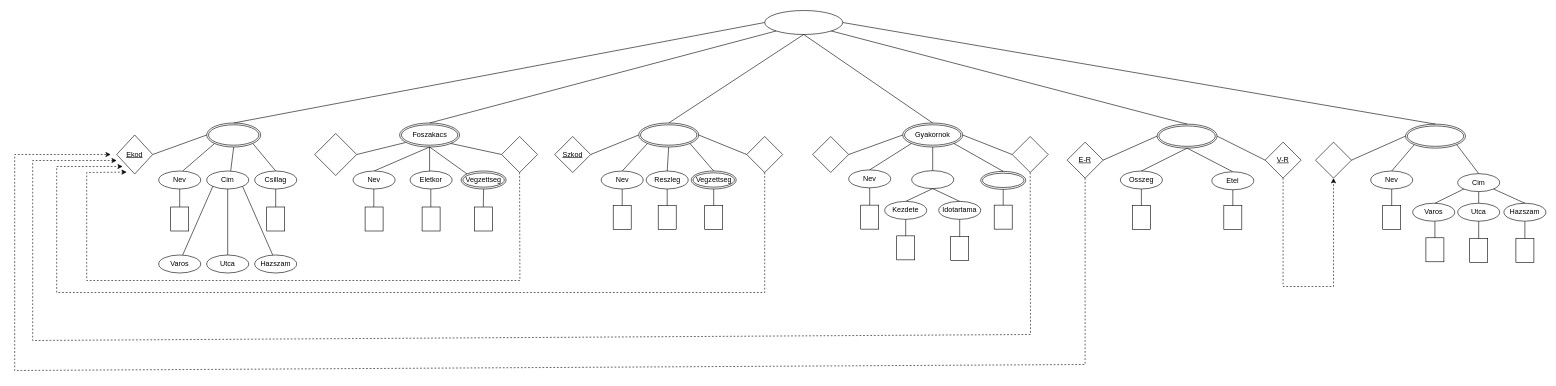
The diagram is 1556 pixels wide and 386 high, and some of its shapes have lost their labels. The shapes that lost their labels are listed below. From the top down, each one's box as (x1, y1, x2, y2) in pixels, then its label:
(764, 10, 843, 34): G50NCO_vendeglatas
(206, 122, 261, 147): Etterem
(314, 133, 357, 176): Fkod
(501, 136, 538, 172): E-F
(638, 122, 699, 147): Szakacs
(746, 136, 783, 172): E-SZ
(812, 136, 849, 172): Gykod
(1012, 136, 1048, 172): E-GY
(1156, 124, 1217, 148): Rendeles
(1405, 124, 1466, 148): Vendeg
(911, 170, 954, 189): Gyakorlat
(980, 171, 1026, 189): Muszak
(1315, 142, 1352, 178): Vkod
